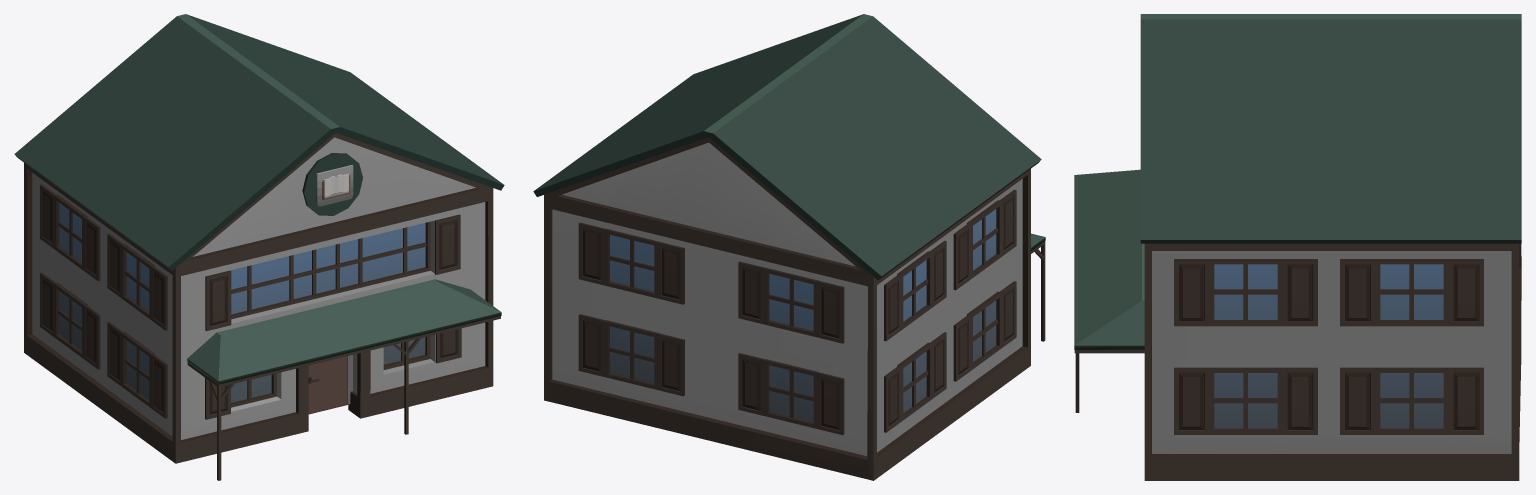
The model's file is buildings-business-library_v1.glb.
3 views of the same model, side by side, from view 1: azimuth 30°, elevation 25°; view 2: azimuth 150°, elevation 25°; view 3: azimuth 270°, elevation 25° (orthographic). The views are drawn at different scales.
Parts seen in each view (by area): view 1: Library_base, Library_windowRefl; view 2: Library_base, Library_windowRefl; view 3: Library_base, Library_windowRefl.
Boxes of the visible parts, box(x1,y1,x2,y2) form: Library_base: box(14, 14, 504, 480); Library_windowRefl: box(59, 203, 425, 402); Library_base: box(533, 14, 1045, 480); Library_windowRefl: box(610, 209, 996, 422); Library_base: box(1074, 14, 1521, 480); Library_windowRefl: box(1214, 264, 1443, 428).
Bounding box in the file's own units: 12.19 × 10.34 × 11.38.
